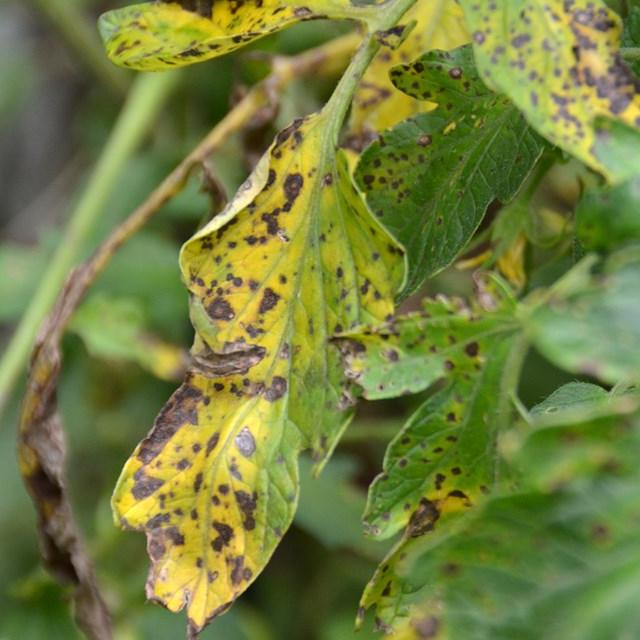Tomato Septoria leaf spot: (77, 97, 402, 630), (351, 272, 560, 631), (468, 0, 640, 181), (95, 0, 367, 75)
